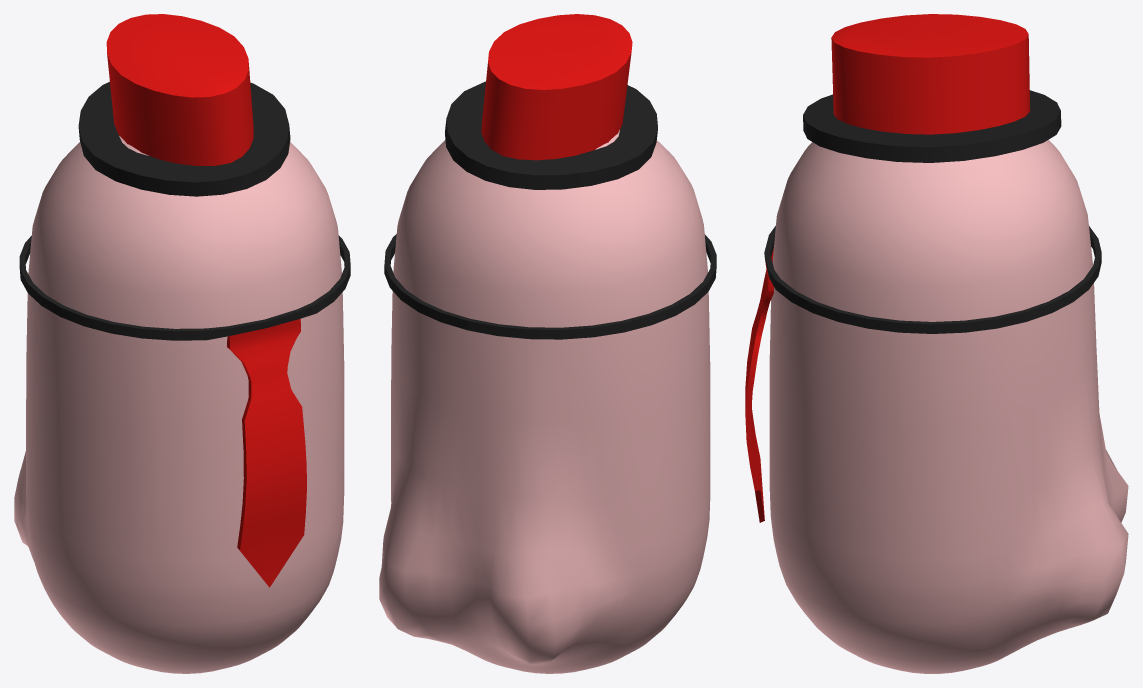
File: mrFresh.fbx
3 views of the same model, side by side, from view 1: azimuth 30°, elevation 25°; view 2: azimuth 150°, elevation 25°; view 3: azimuth 270°, elevation 25° (orthographic). The views are drawn at different scales.
Parts seen in each view (by area): view 1: MrFresh; view 2: MrFresh; view 3: MrFresh.
Boxes of the visible parts, x1,y1,x2,y2 form: MrFresh: (14,14,350,673); MrFresh: (379,14,716,673); MrFresh: (745,14,1128,673).
Size of the model in its own units: 207 by 421 by 234.
